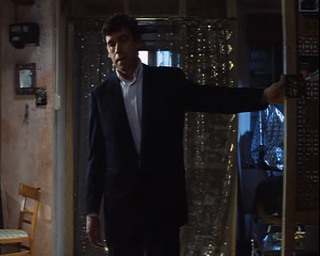face: (105, 29, 133, 73)
mls: (1, 1, 320, 256)
person: (83, 13, 308, 256)
